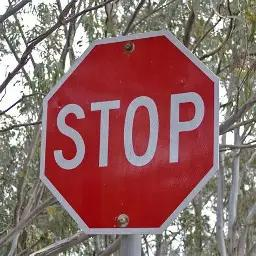Stop: (45, 36, 213, 227)
